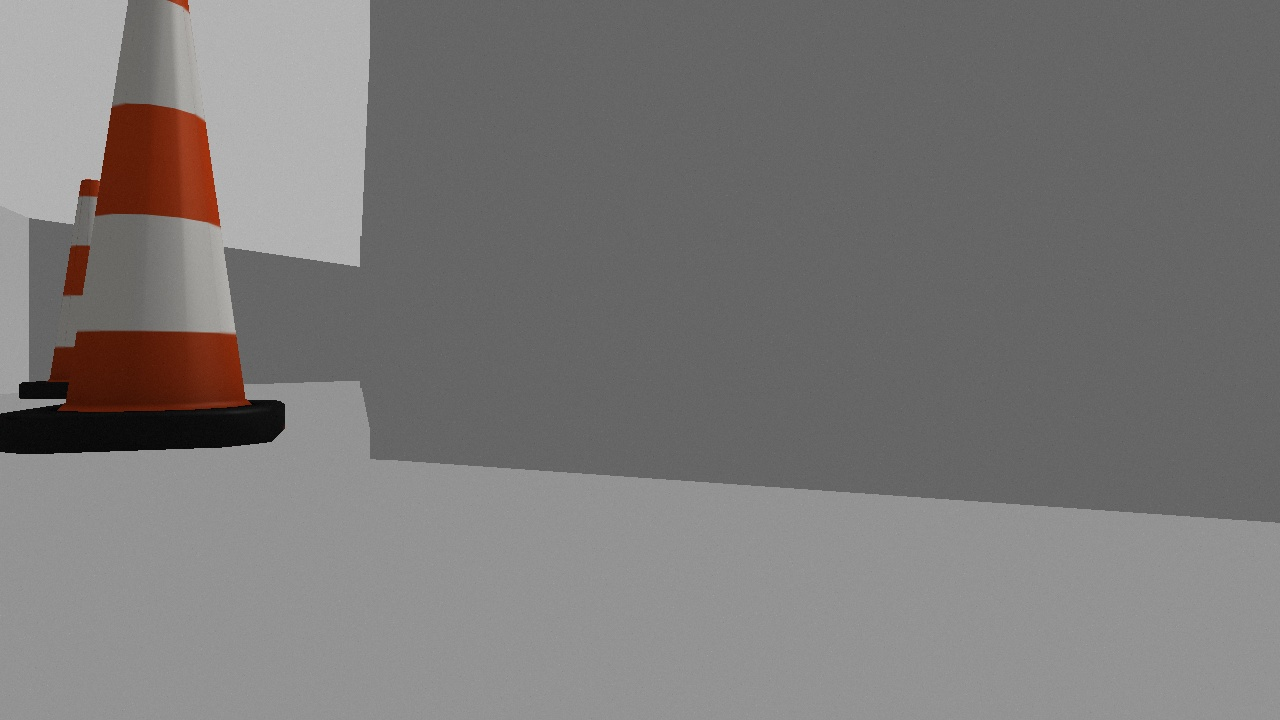barricade: (1, 1, 287, 453), (14, 172, 140, 402)
